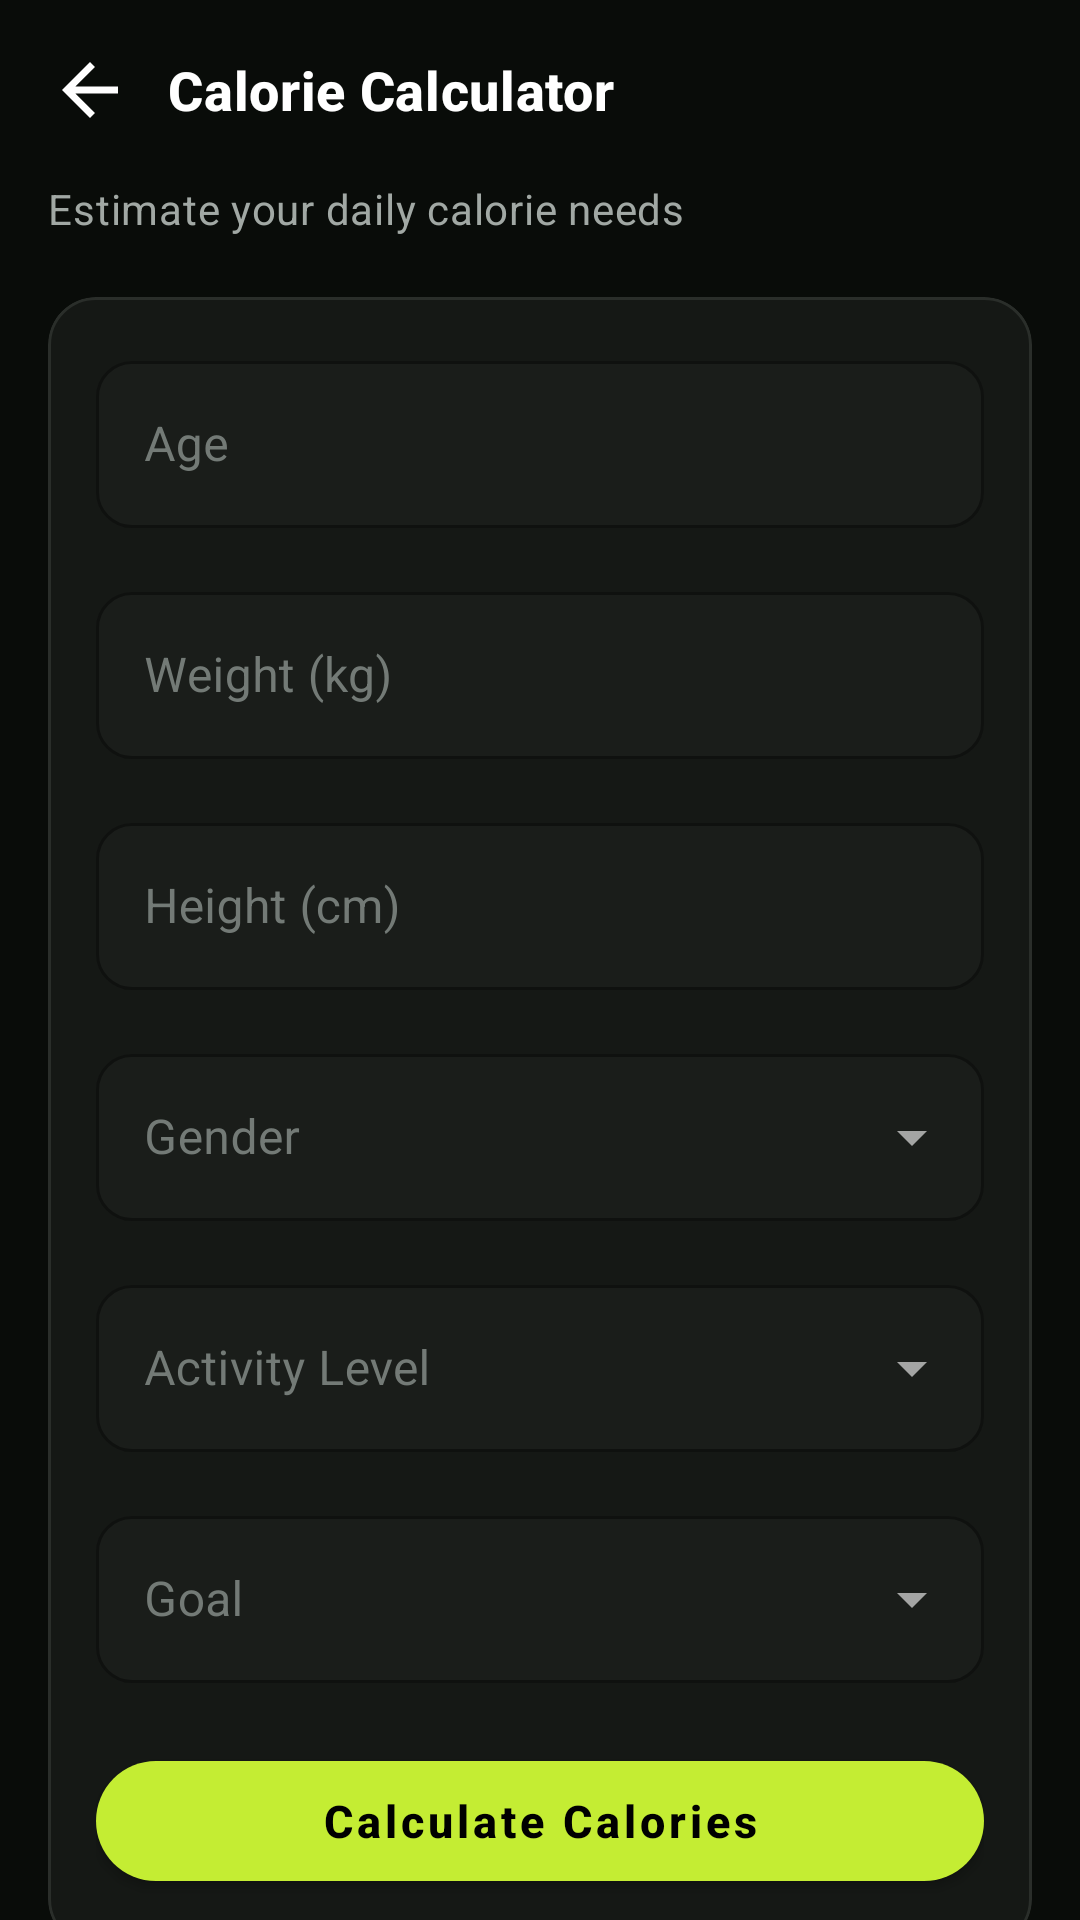

Point at icon controls on the screen. Image size 1080×1920, points as (x=x, y=y).
Back: (x=90, y=90)
